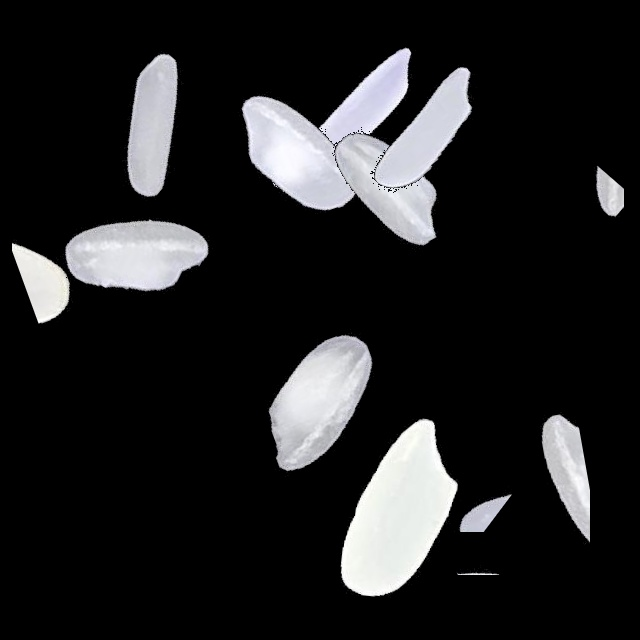Broken: (468, 370, 590, 620), (332, 427, 582, 532), (529, 85, 624, 335), (349, 487, 599, 575), (381, 88, 631, 172), (312, 34, 562, 118), (12, 118, 93, 368)
Full: (222, 0, 472, 250), (173, 27, 423, 277), (30, 2, 280, 252), (194, 275, 444, 525), (267, 60, 517, 310), (10, 131, 260, 381), (302, 5, 552, 255), (277, 384, 527, 634)
